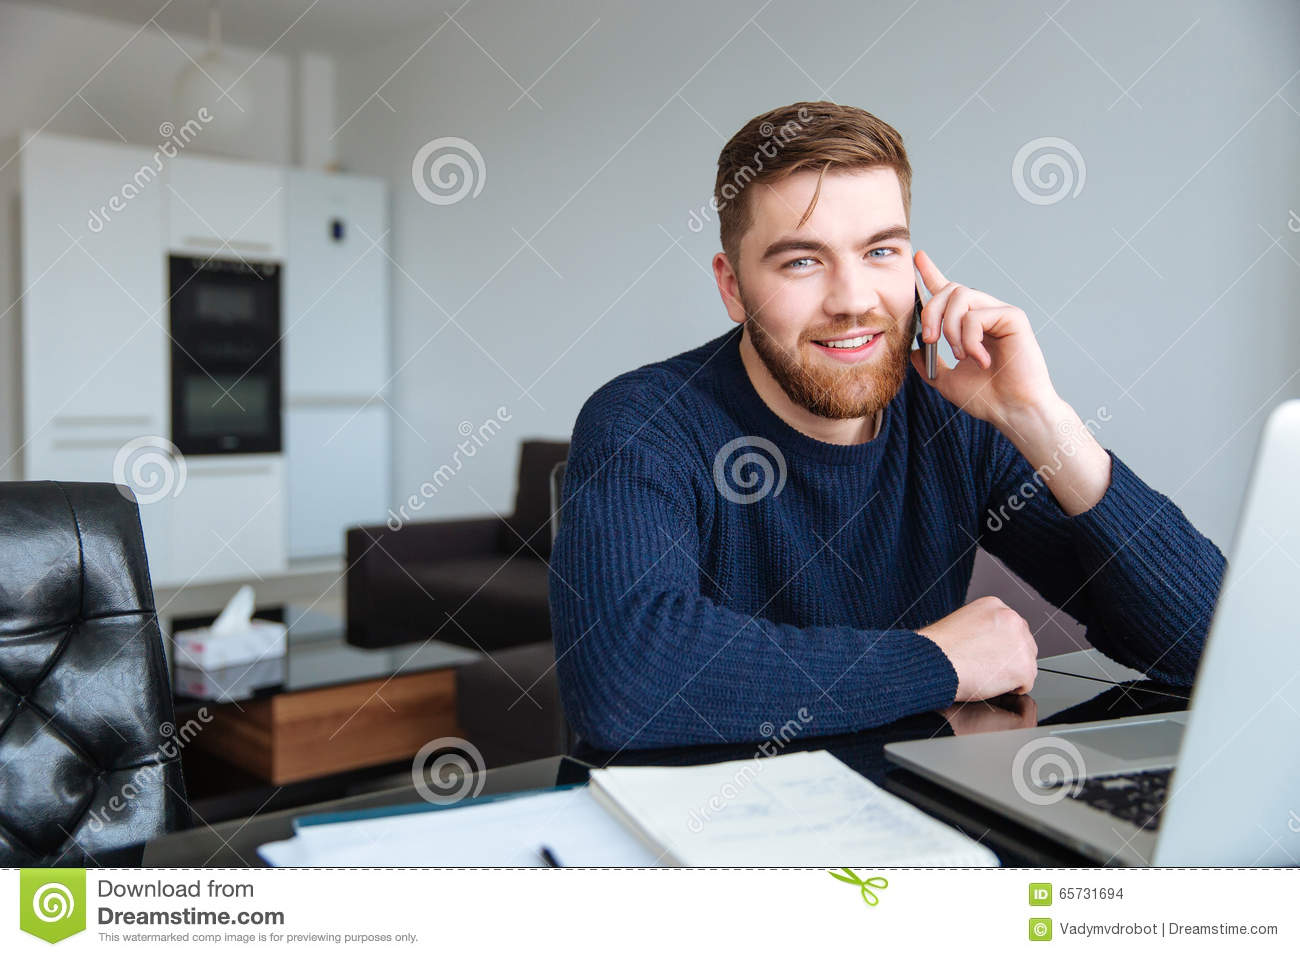phone: (905, 267, 939, 388)
talk: (760, 217, 1043, 436)
